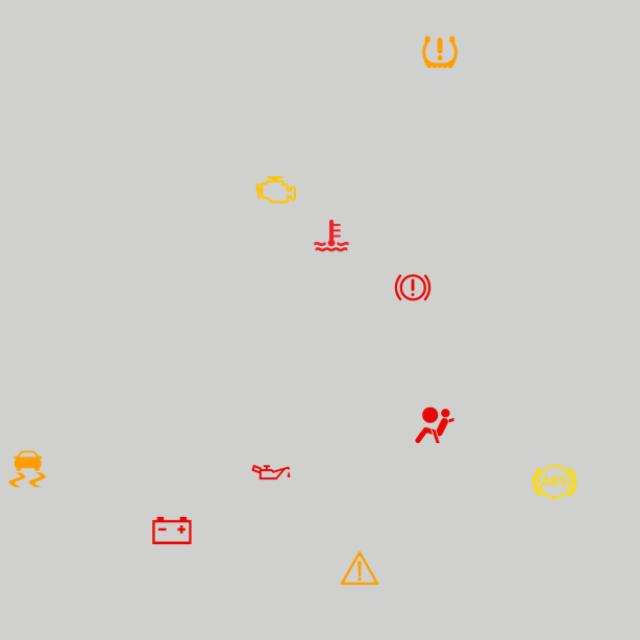Anti Lock Braking System: (530, 458, 578, 506)
Braking System Issue: (389, 264, 437, 312)
Charging System Issue: (148, 506, 196, 554)
Check Engine: (252, 166, 300, 213)
Electronic Stability Problem -ESP-: (3, 445, 51, 493)
Engine Overheating Warning Light: (308, 212, 356, 260)
Low Engine Oil Warning Light: (247, 448, 295, 496)
Low Tire Pressure Warning Light: (416, 28, 464, 76)
Master warning light: (336, 544, 384, 592)
SRS-Airbag: (411, 402, 458, 449)
